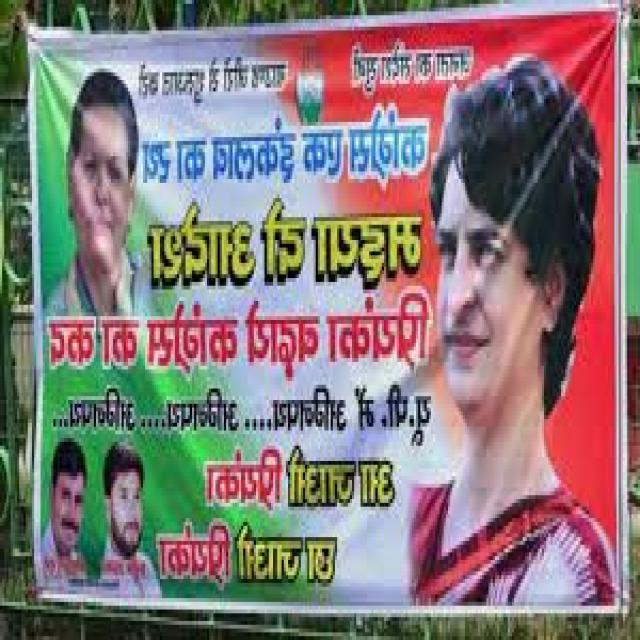Werbetafel frei: (37, 8, 628, 593)
